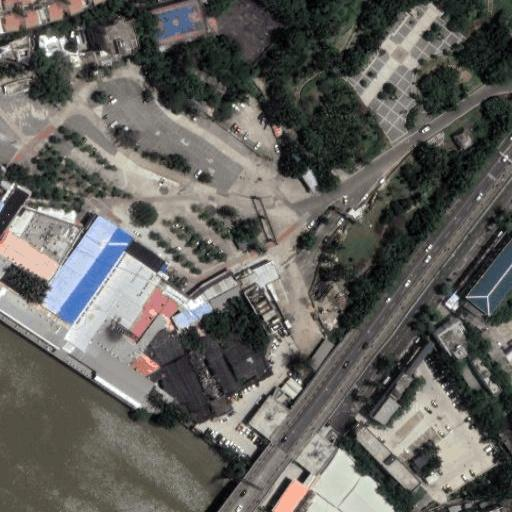building: (39, 214, 131, 324), (50, 326, 155, 414), (149, 336, 217, 431), (310, 448, 410, 512), (0, 274, 72, 356), (86, 253, 160, 330), (200, 317, 272, 394), (349, 422, 421, 494), (70, 303, 144, 366), (456, 232, 512, 313), (126, 280, 179, 343), (188, 345, 233, 417), (243, 390, 293, 442), (297, 433, 339, 490), (387, 411, 435, 459), (34, 22, 82, 69), (120, 237, 171, 280), (243, 283, 281, 336), (478, 330, 512, 386), (183, 292, 222, 338), (0, 184, 31, 238), (90, 15, 129, 57), (438, 321, 477, 362), (470, 354, 503, 396), (237, 260, 281, 291), (305, 331, 339, 370), (402, 339, 435, 378), (272, 479, 310, 512), (210, 286, 248, 317), (384, 370, 416, 405), (274, 372, 307, 405), (458, 360, 488, 395), (0, 69, 40, 95), (294, 490, 341, 512), (407, 442, 439, 473), (204, 274, 241, 300), (369, 394, 398, 425), (293, 161, 321, 192), (451, 294, 480, 319), (454, 130, 475, 152), (172, 310, 193, 331), (481, 495, 503, 512)
